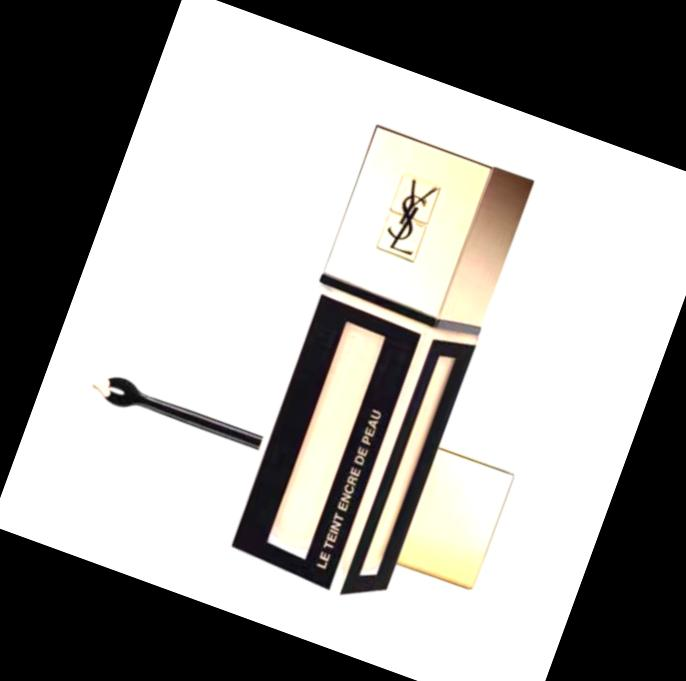cosmetic: (220, 125, 538, 613)
